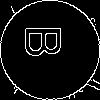B: (25, 25, 70, 58)
